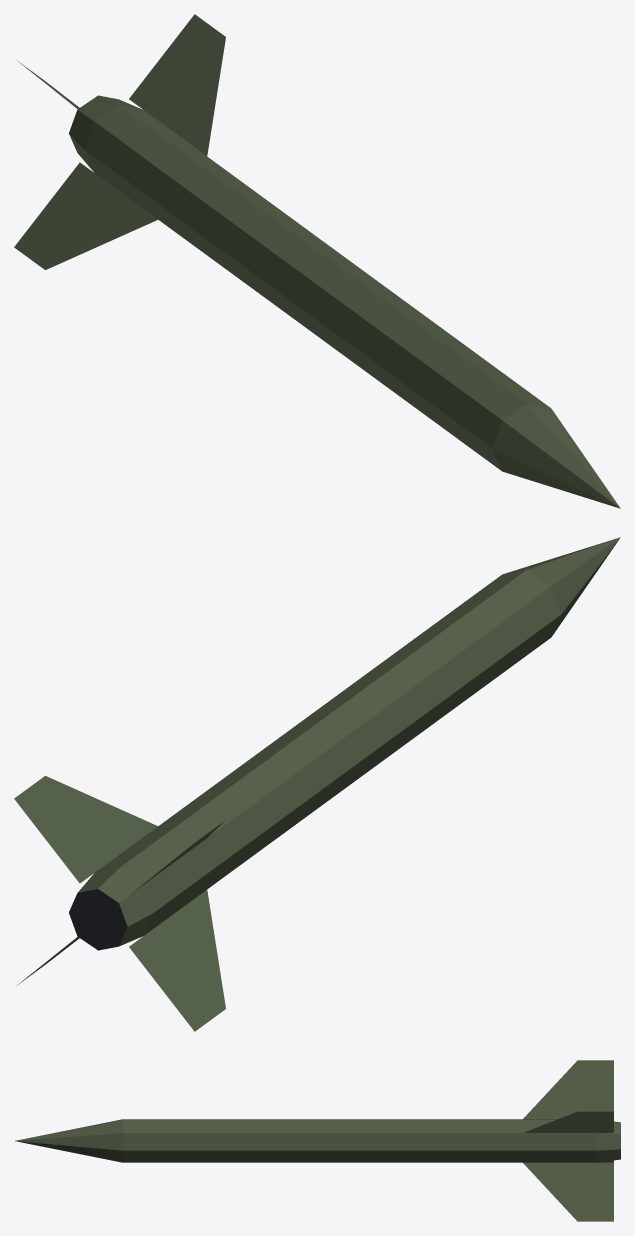
The model's file is rocket.glb.
3 views of the same model, one above another, from view 1: azimuth 30°, elevation 25°; view 2: azimuth 150°, elevation 25°; view 3: azimuth 270°, elevation 25° (orthographic). The views are drawn at different scales.
Parts seen in each view (by area): view 1: rocket; view 2: rocket; view 3: rocket.
Part boxes in pixels (bbox=[...]): rocket: bbox=[14, 14, 620, 508]; rocket: bbox=[14, 537, 620, 1031]; rocket: bbox=[15, 1060, 620, 1221].
Bounding box in the file's own units: 0.3393 × 0.3393 × 1.7.
